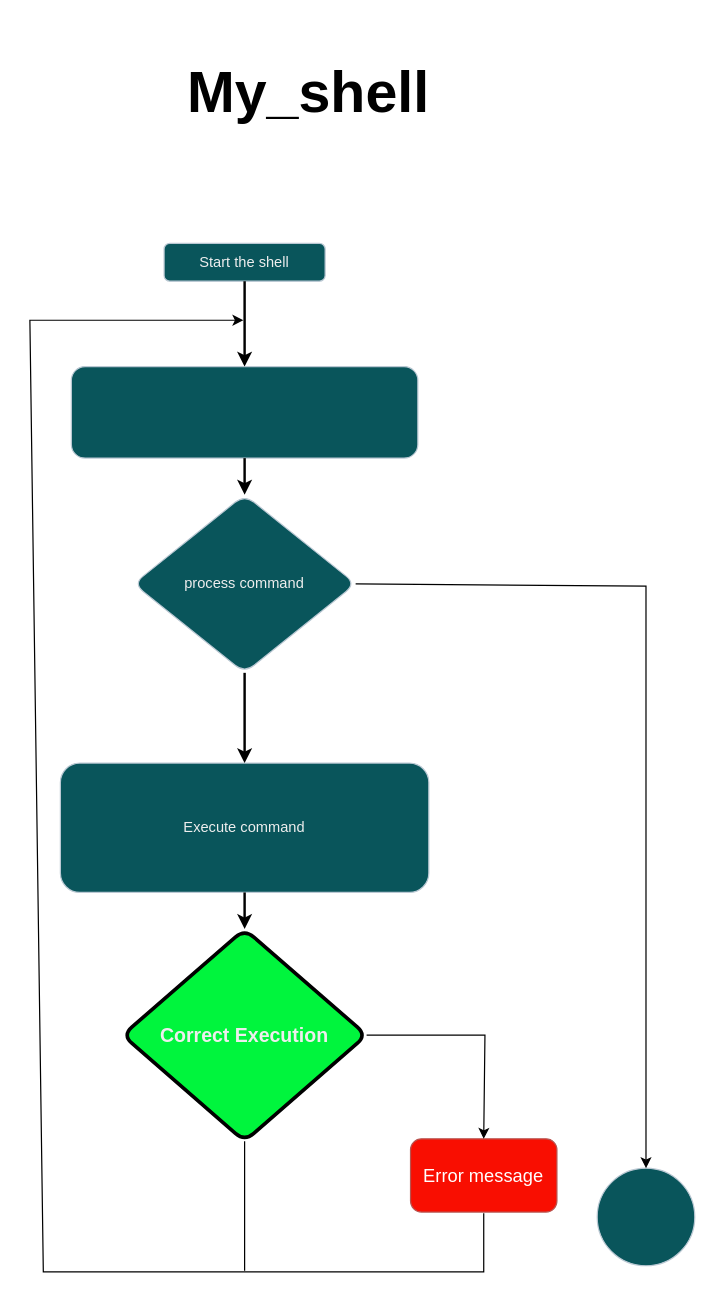
The diagram is 716 pixels wide and 1303 high, and some of its shapes have lost their labels. Each missing label, with the centre of its shape:
End: the point at 645,1216
Prompt : receive commands: the point at 244,411
